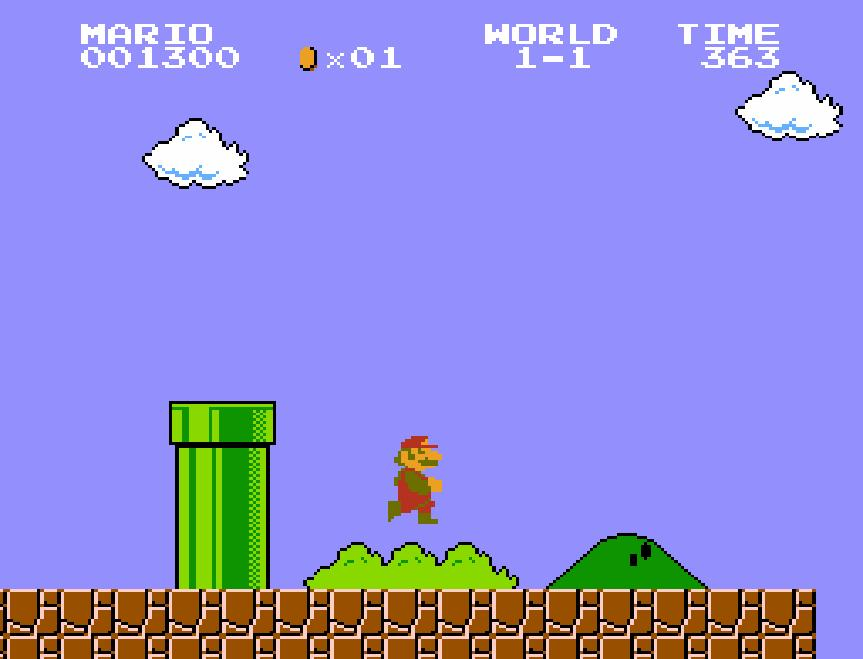big_mario: (386, 428, 444, 526)
